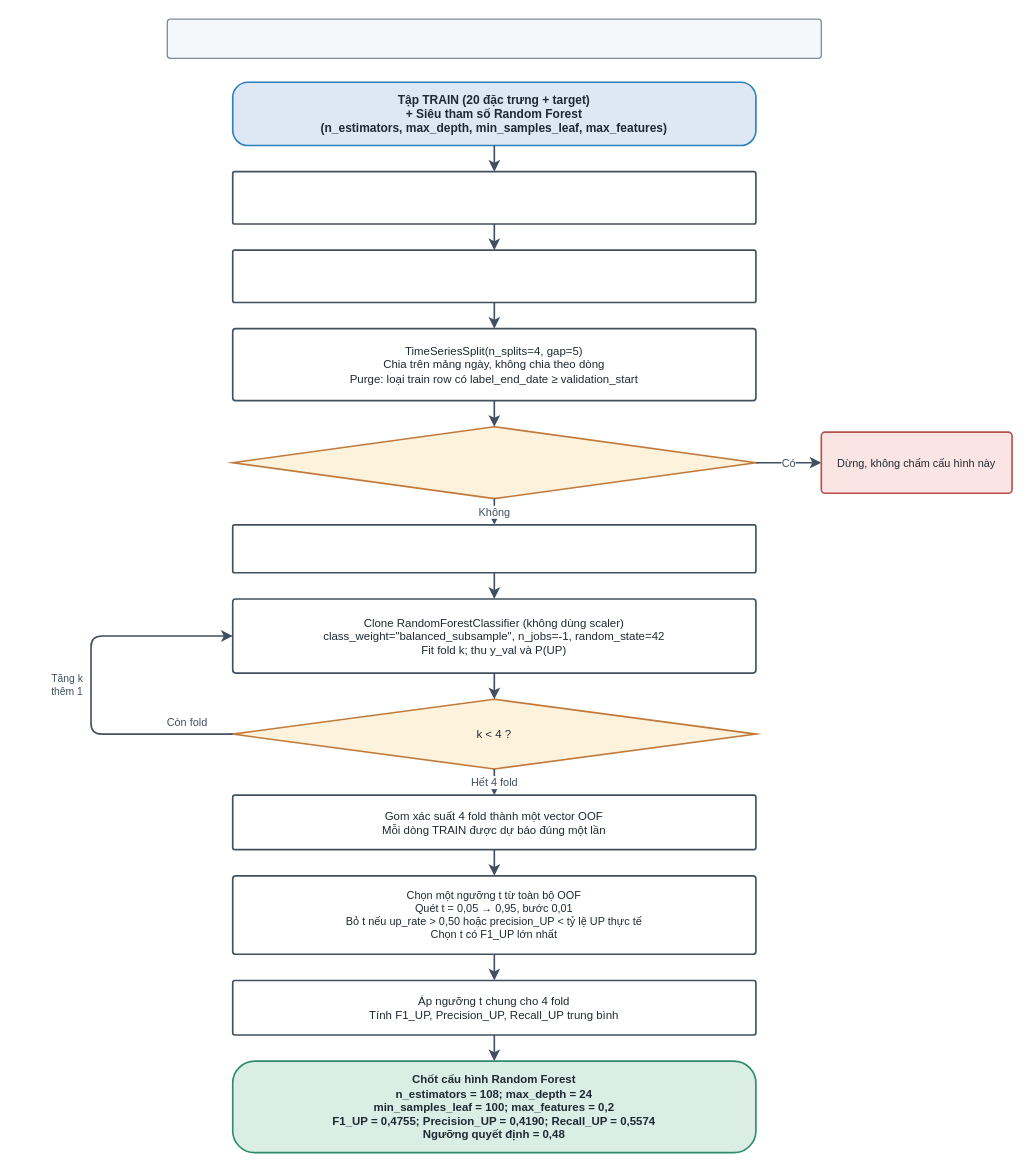
Image size: 1031x1173. Some labels were removed from this diagram. Here are the shapes that lost their labels. From the top down, the box of each, then its label:
(166, 18, 821, 58): Đề tài: Dự báo xu hướng giá cổ phiếu HOSE bằng Machine Learning
(231, 170, 756, 224): Sắp xếp panel theo (trading_date, symbol)
(231, 249, 756, 303): Rút danh sách ngày giao dịch duy nhất Bỏ các ngày trước 01/01/2021
(231, 425, 756, 499): Train hoặc val fold rỗng?
(231, 524, 756, 573): Khởi tạo vòng lặp: Đặt k = 1
